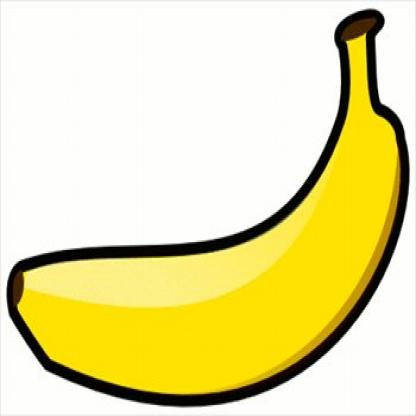banana: (2, 95, 406, 414)
